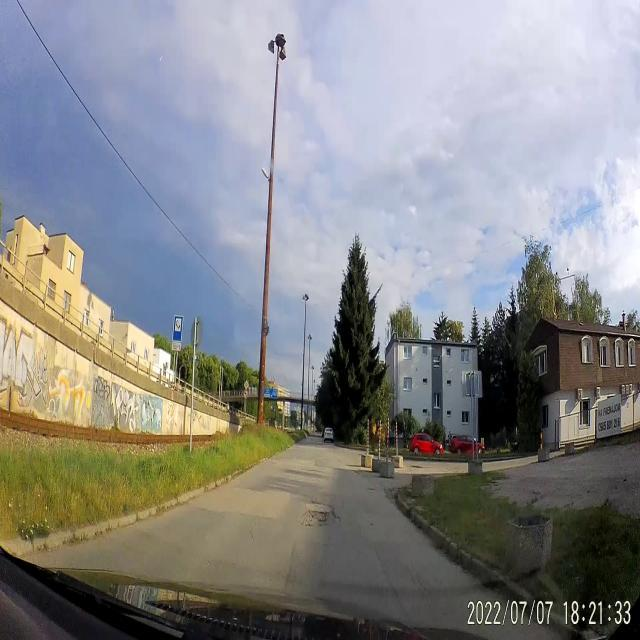Pothole: (298, 495, 340, 531), (366, 484, 377, 494)
